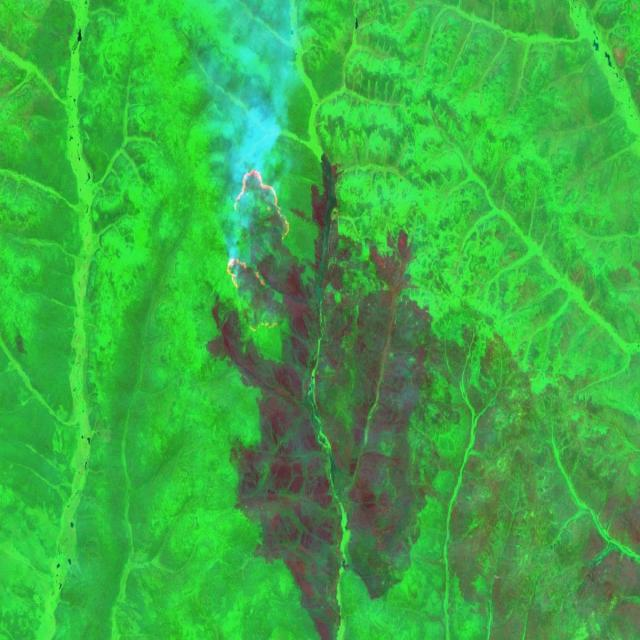fire: (226, 162, 290, 288)
